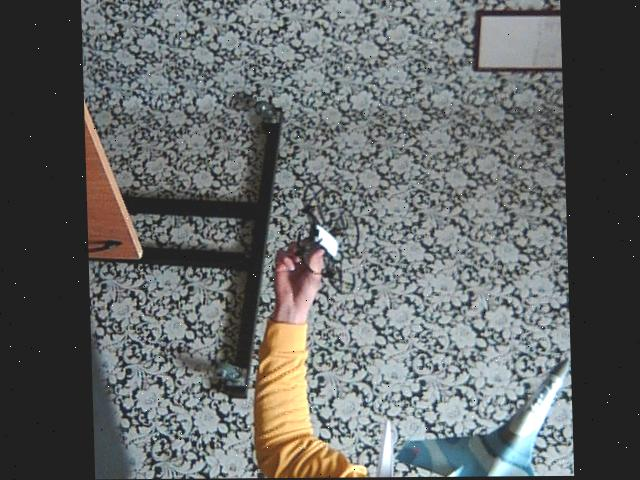drone: (286, 178, 368, 302)
